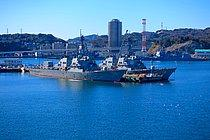MIL_Ship: (29, 33, 127, 84), (98, 39, 180, 83)
